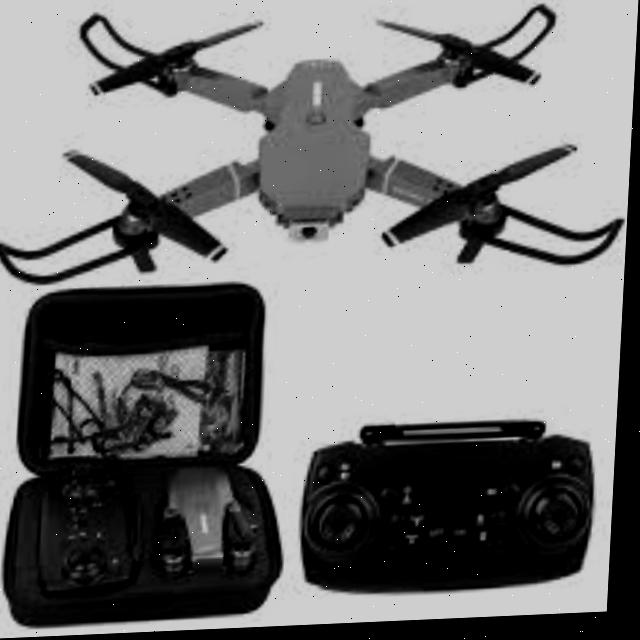drone: (0, 0, 640, 319)
